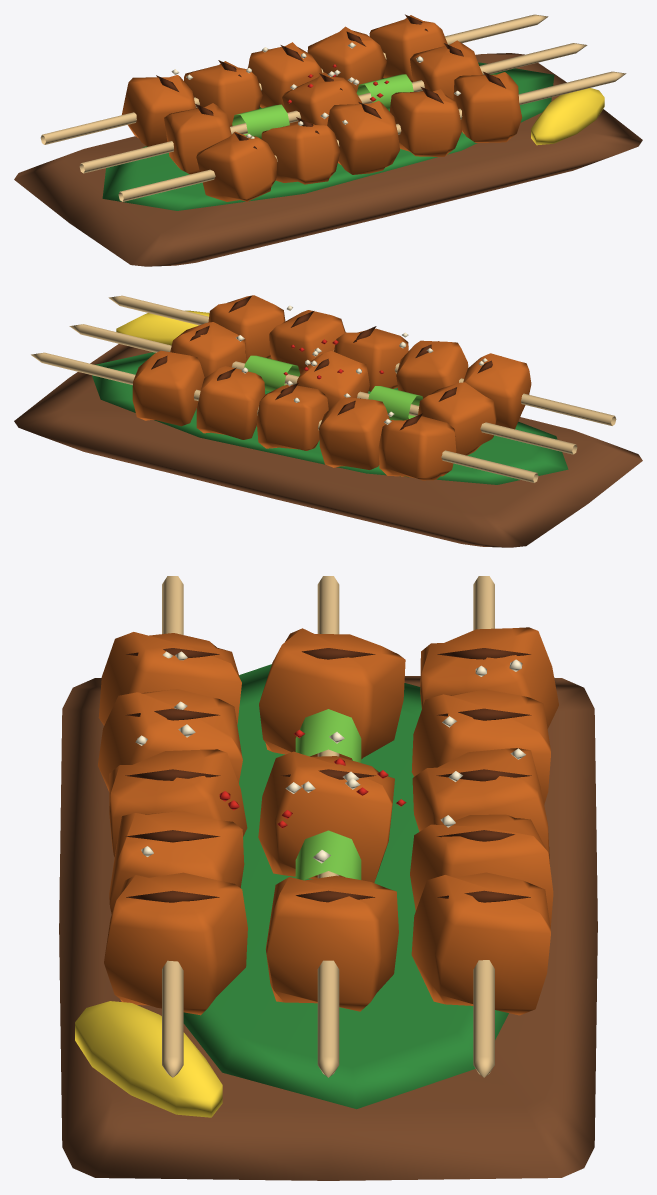
3 renders of one model, top to bottom at view 1: azimuth 30°, elevation 25°; view 2: azimuth 150°, elevation 25°; view 3: azimuth 270°, elevation 25°, orthographic. The views are drawn at different scales.
Visible parts, largest first — view 1: chicken, board, skewer, leaf, lime, scallion, char, sesame; view 2: chicken, board, skewer, leaf, scallion, char, lime, sesame; view 3: chicken, board, leaf, skewer, lime, char, scallion, sesame.
Part boxes in pixels (left/top/right/bottom): chicken: left=122, top=15, right=522, bottom=201; board: left=14, top=53, right=642, bottom=266; skewer: left=40, top=14, right=626, bottom=201; leaf: left=102, top=62, right=554, bottom=210; lime: left=531, top=88, right=604, bottom=145; scallion: left=232, top=74, right=413, bottom=139; char: left=156, top=14, right=505, bottom=148; sesame: left=171, top=42, right=460, bottom=138; chicken: left=132, top=295, right=531, bottom=480; board: left=14, top=344, right=642, bottom=547; skewer: left=31, top=295, right=616, bottom=482; leaf: left=92, top=352, right=568, bottom=484; scallion: left=244, top=355, right=422, bottom=420; char: left=151, top=295, right=492, bottom=429; lime: left=116, top=310, right=209, bottom=345; sesame: left=236, top=305, right=487, bottom=424; chicken: left=97, top=627, right=558, bottom=1015; board: left=59, top=676, right=597, bottom=1180; leaf: left=183, top=664, right=508, bottom=1109; skewer: left=162, top=576, right=494, bottom=1077; lime: left=75, top=1001, right=222, bottom=1117; char: left=125, top=648, right=531, bottom=902; scallion: left=295, top=709, right=361, bottom=880; sesame: left=135, top=651, right=525, bottom=863.
Bounding box in the file's own units: 0.2 × 0.0377 × 0.09.
